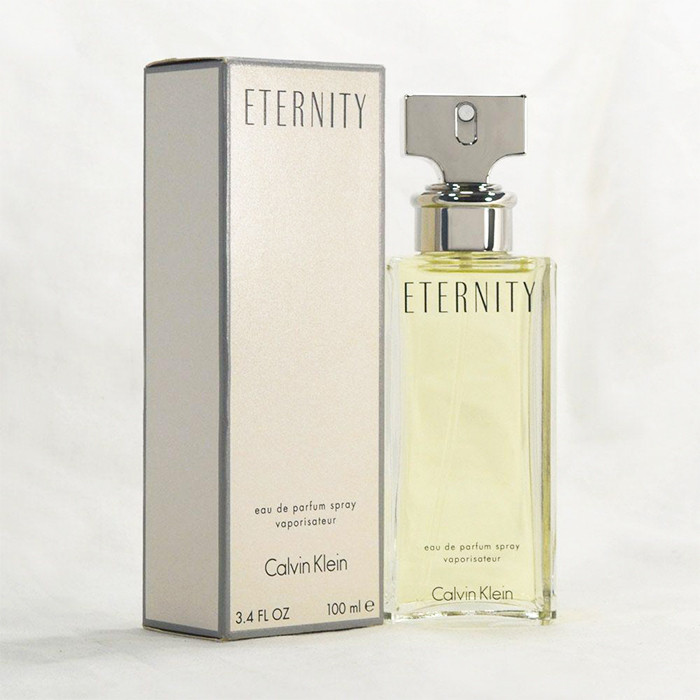Calvin Klein: (255, 544, 358, 583), (424, 577, 521, 604)
